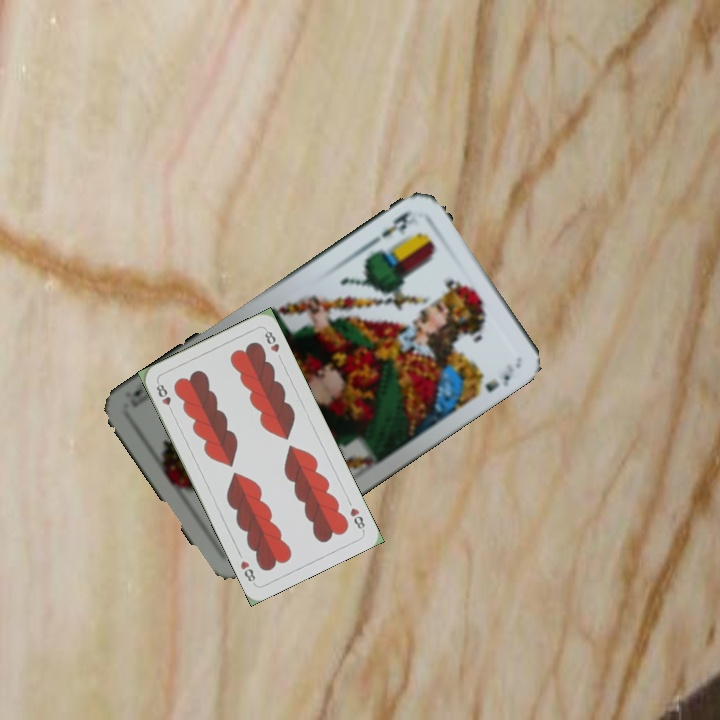EK: (366, 207, 412, 249)
H8: (152, 378, 176, 417), (346, 504, 368, 534)
